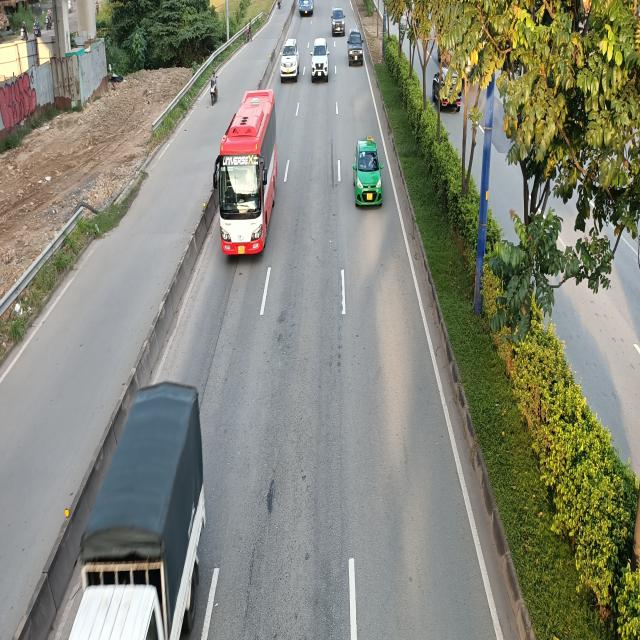car: (352, 140, 383, 210), (310, 39, 330, 84), (279, 37, 299, 80), (347, 28, 365, 67), (331, 8, 344, 37)
coach: (212, 93, 279, 261)
truck: (54, 383, 205, 640)
